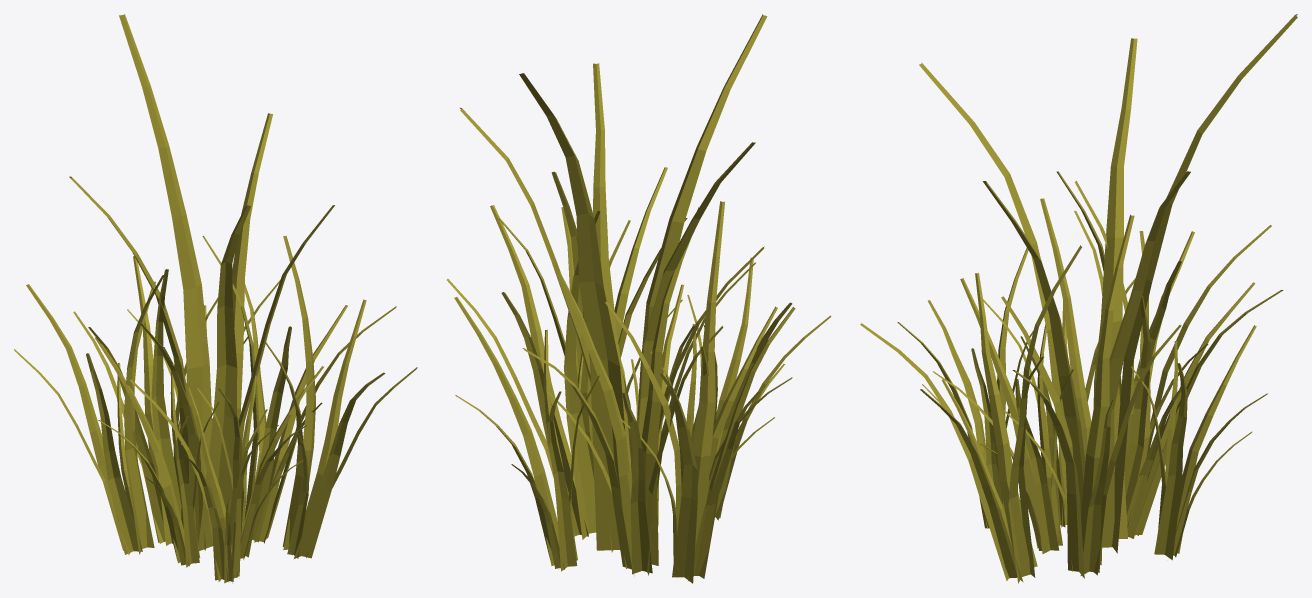
File: grass_normal.glb
The picture shows the model from 3 angles, left to right: view 1: azimuth 30°, elevation 25°; view 2: azimuth 150°, elevation 25°; view 3: azimuth 270°, elevation 25°; orthographic projection. The views are drawn at different scales.
Visible parts, largest first — view 1: Grass, Grass.007, Grass.005, Grass.001, Grass.003, Grass.002, Grass.006, Grass.004; view 2: Grass, Grass.007, Grass.003, Grass.001, Grass.008, Grass.005, Grass.006, Grass.002, Grass.004; view 3: Grass, Grass.001, Grass.005, Grass.003, Grass.008, Grass.004, Grass.006, Grass.007, Grass.002.
Boxes of the visible parts, <box> form: Grass: <box>69,14,334,550</box>; Grass.007: <box>14,275,164,554</box>; Grass.005: <box>264,235,417,558</box>; Grass.001: <box>202,236,396,543</box>; Grass.003: <box>73,256,217,545</box>; Grass.002: <box>95,337,218,567</box>; Grass.006: <box>130,379,278,583</box>; Grass.004: <box>197,366,323,559</box>; Grass: <box>460,14,767,552</box>; Grass.007: <box>605,201,795,583</box>; Grass.003: <box>522,207,723,575</box>; Grass.001: <box>447,205,630,539</box>; Grass.008: <box>454,297,599,571</box>; Grass.005: <box>499,167,687,458</box>; Grass.006: <box>687,257,831,520</box>; Grass.002: <box>650,306,792,491</box>; Grass.004: <box>621,262,755,526</box>; Grass: <box>919,14,1297,553</box>; Grass.001: <box>1001,214,1181,578</box>; Grass.005: <box>860,245,1081,583</box>; Grass.003: <box>1074,181,1283,538</box>; Grass.008: <box>1130,325,1267,560</box>; Grass.004: <box>933,278,1073,553</box>; Grass.006: <box>897,247,1043,528</box>; Grass.007: <box>1056,171,1271,455</box>; Grass.002: <box>983,278,1135,527</box>.
Size of the model in its own units: 2.77 by 4.05 by 3.01.
